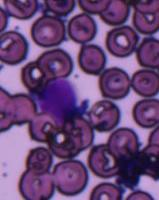L: (37, 76, 80, 122)
